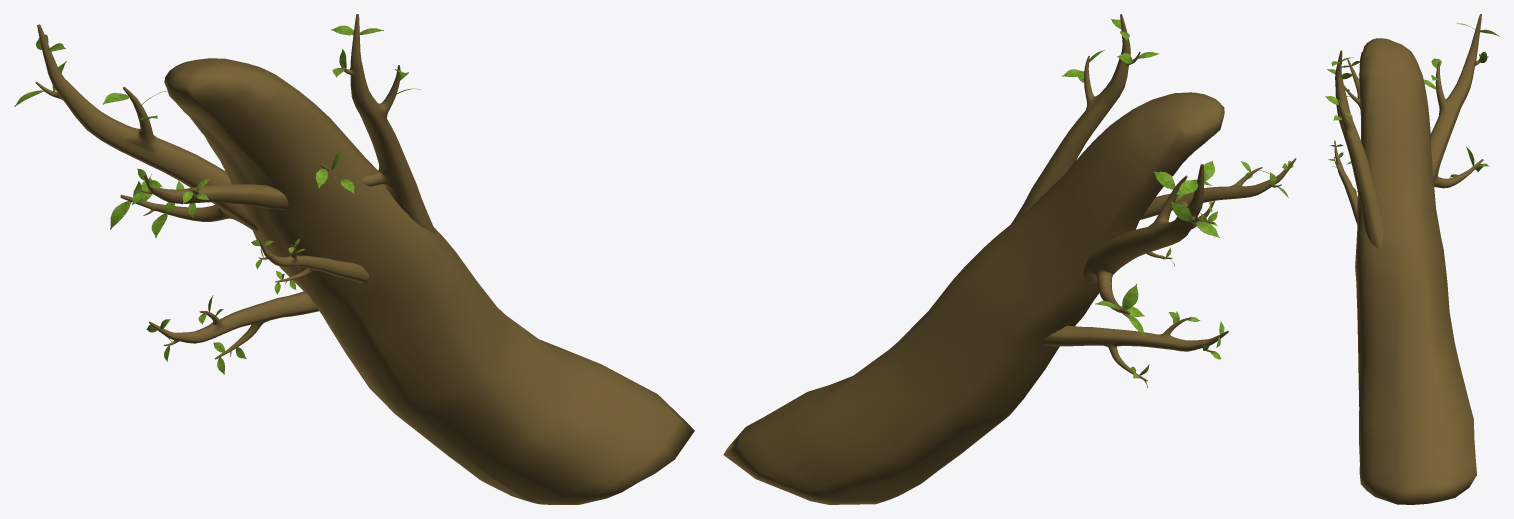
The model's file is TreeTopBranch(1).fbx.
3 views of the same model, side by side, from view 1: azimuth 30°, elevation 25°; view 2: azimuth 150°, elevation 25°; view 3: azimuth 270°, elevation 25° (orthographic). The views are drawn at different scales.
Visible parts, largest first — view 1: pCube55; view 2: pCube55; view 3: pCube55.
Part boxes in pixels (bbox=[...]): pCube55: bbox=[14, 14, 694, 504]; pCube55: bbox=[723, 14, 1296, 504]; pCube55: bbox=[1325, 14, 1499, 504].
Size of the model in its own units: 0.2338 by 0.2099 by 0.0925.
